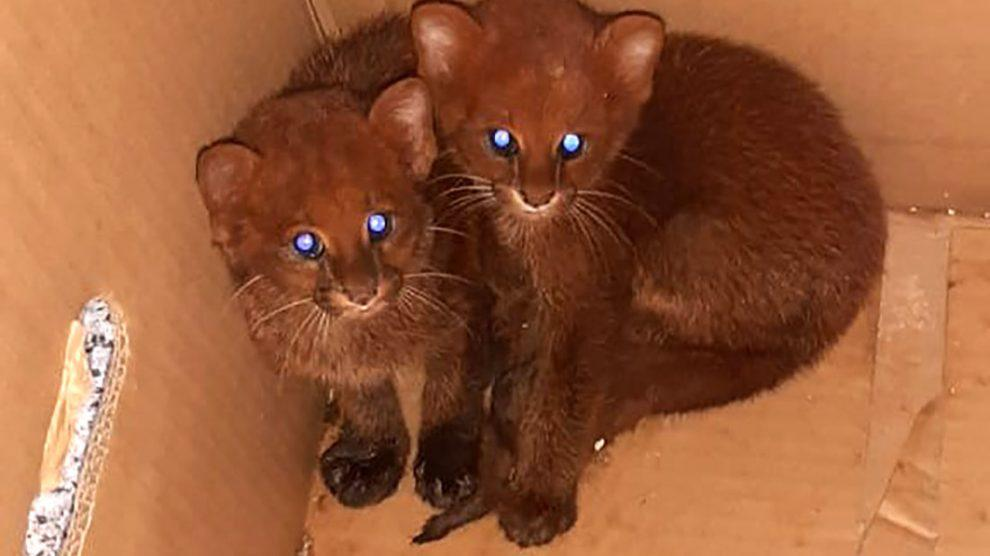OncaParda: (394, 8, 896, 515), (187, 6, 479, 520)
